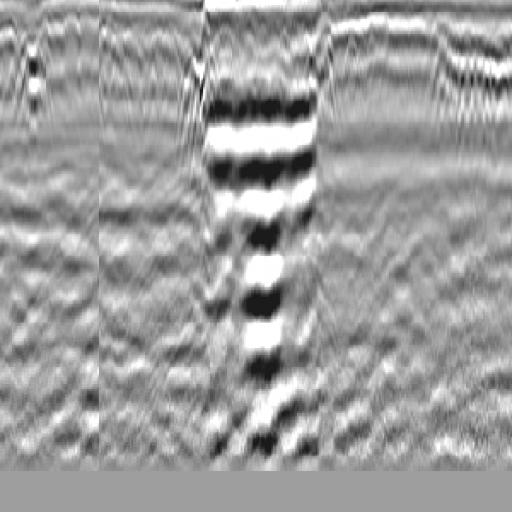non-metallic: (5, 41, 60, 140)
